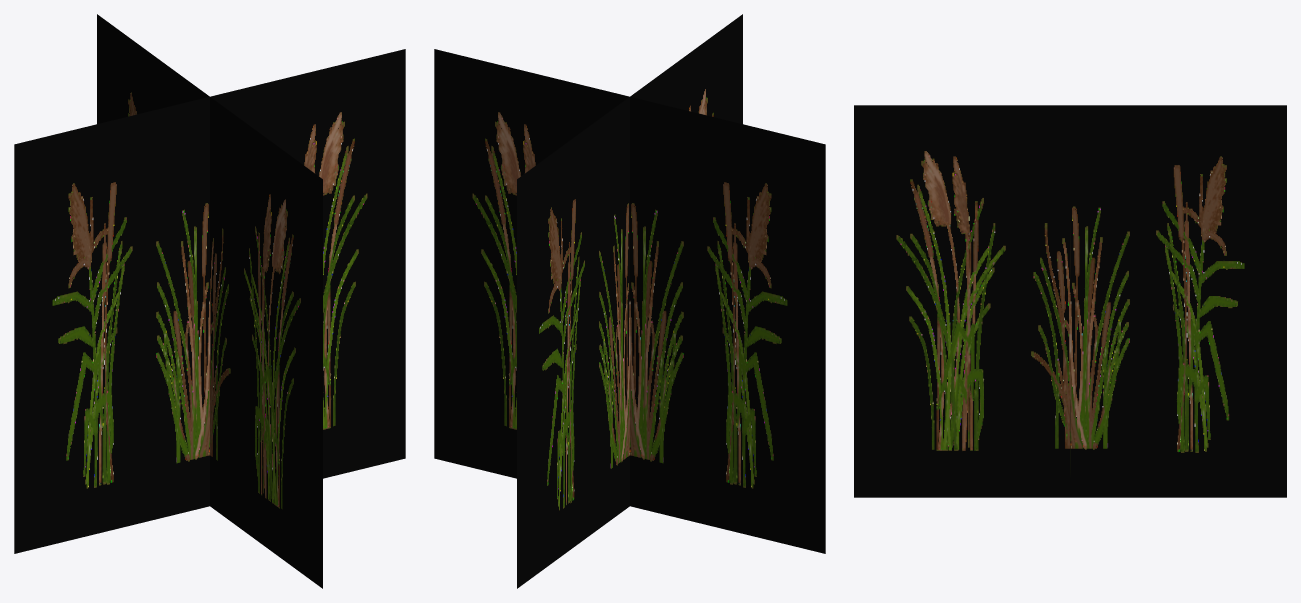
Rendered from Quenouille - Copy.FBX.
The picture shows the model from 3 angles, left to right: view 1: azimuth 30°, elevation 25°; view 2: azimuth 150°, elevation 25°; view 3: azimuth 270°, elevation 25°; orthographic projection. The views are drawn at different scales.
Parts seen in each view (by area): view 1: Quenouille; view 2: Quenouille; view 3: Quenouille.
Boxes of the visible parts, bbox=[...] form: Quenouille: bbox=[14, 14, 405, 588]; Quenouille: bbox=[434, 14, 825, 588]; Quenouille: bbox=[854, 105, 1286, 497].
Size of the model in its own units: 50 by 50 by 50.
